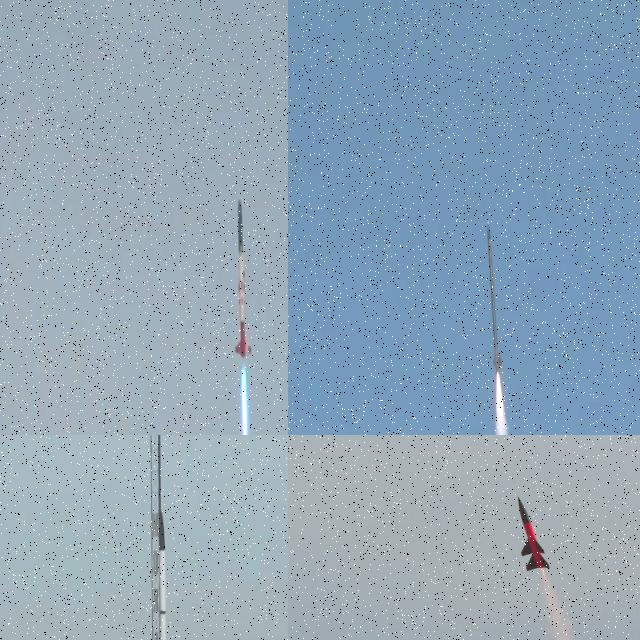Rocket: (234, 198, 252, 374), (151, 509, 175, 640), (517, 497, 550, 571), (487, 220, 502, 371)
